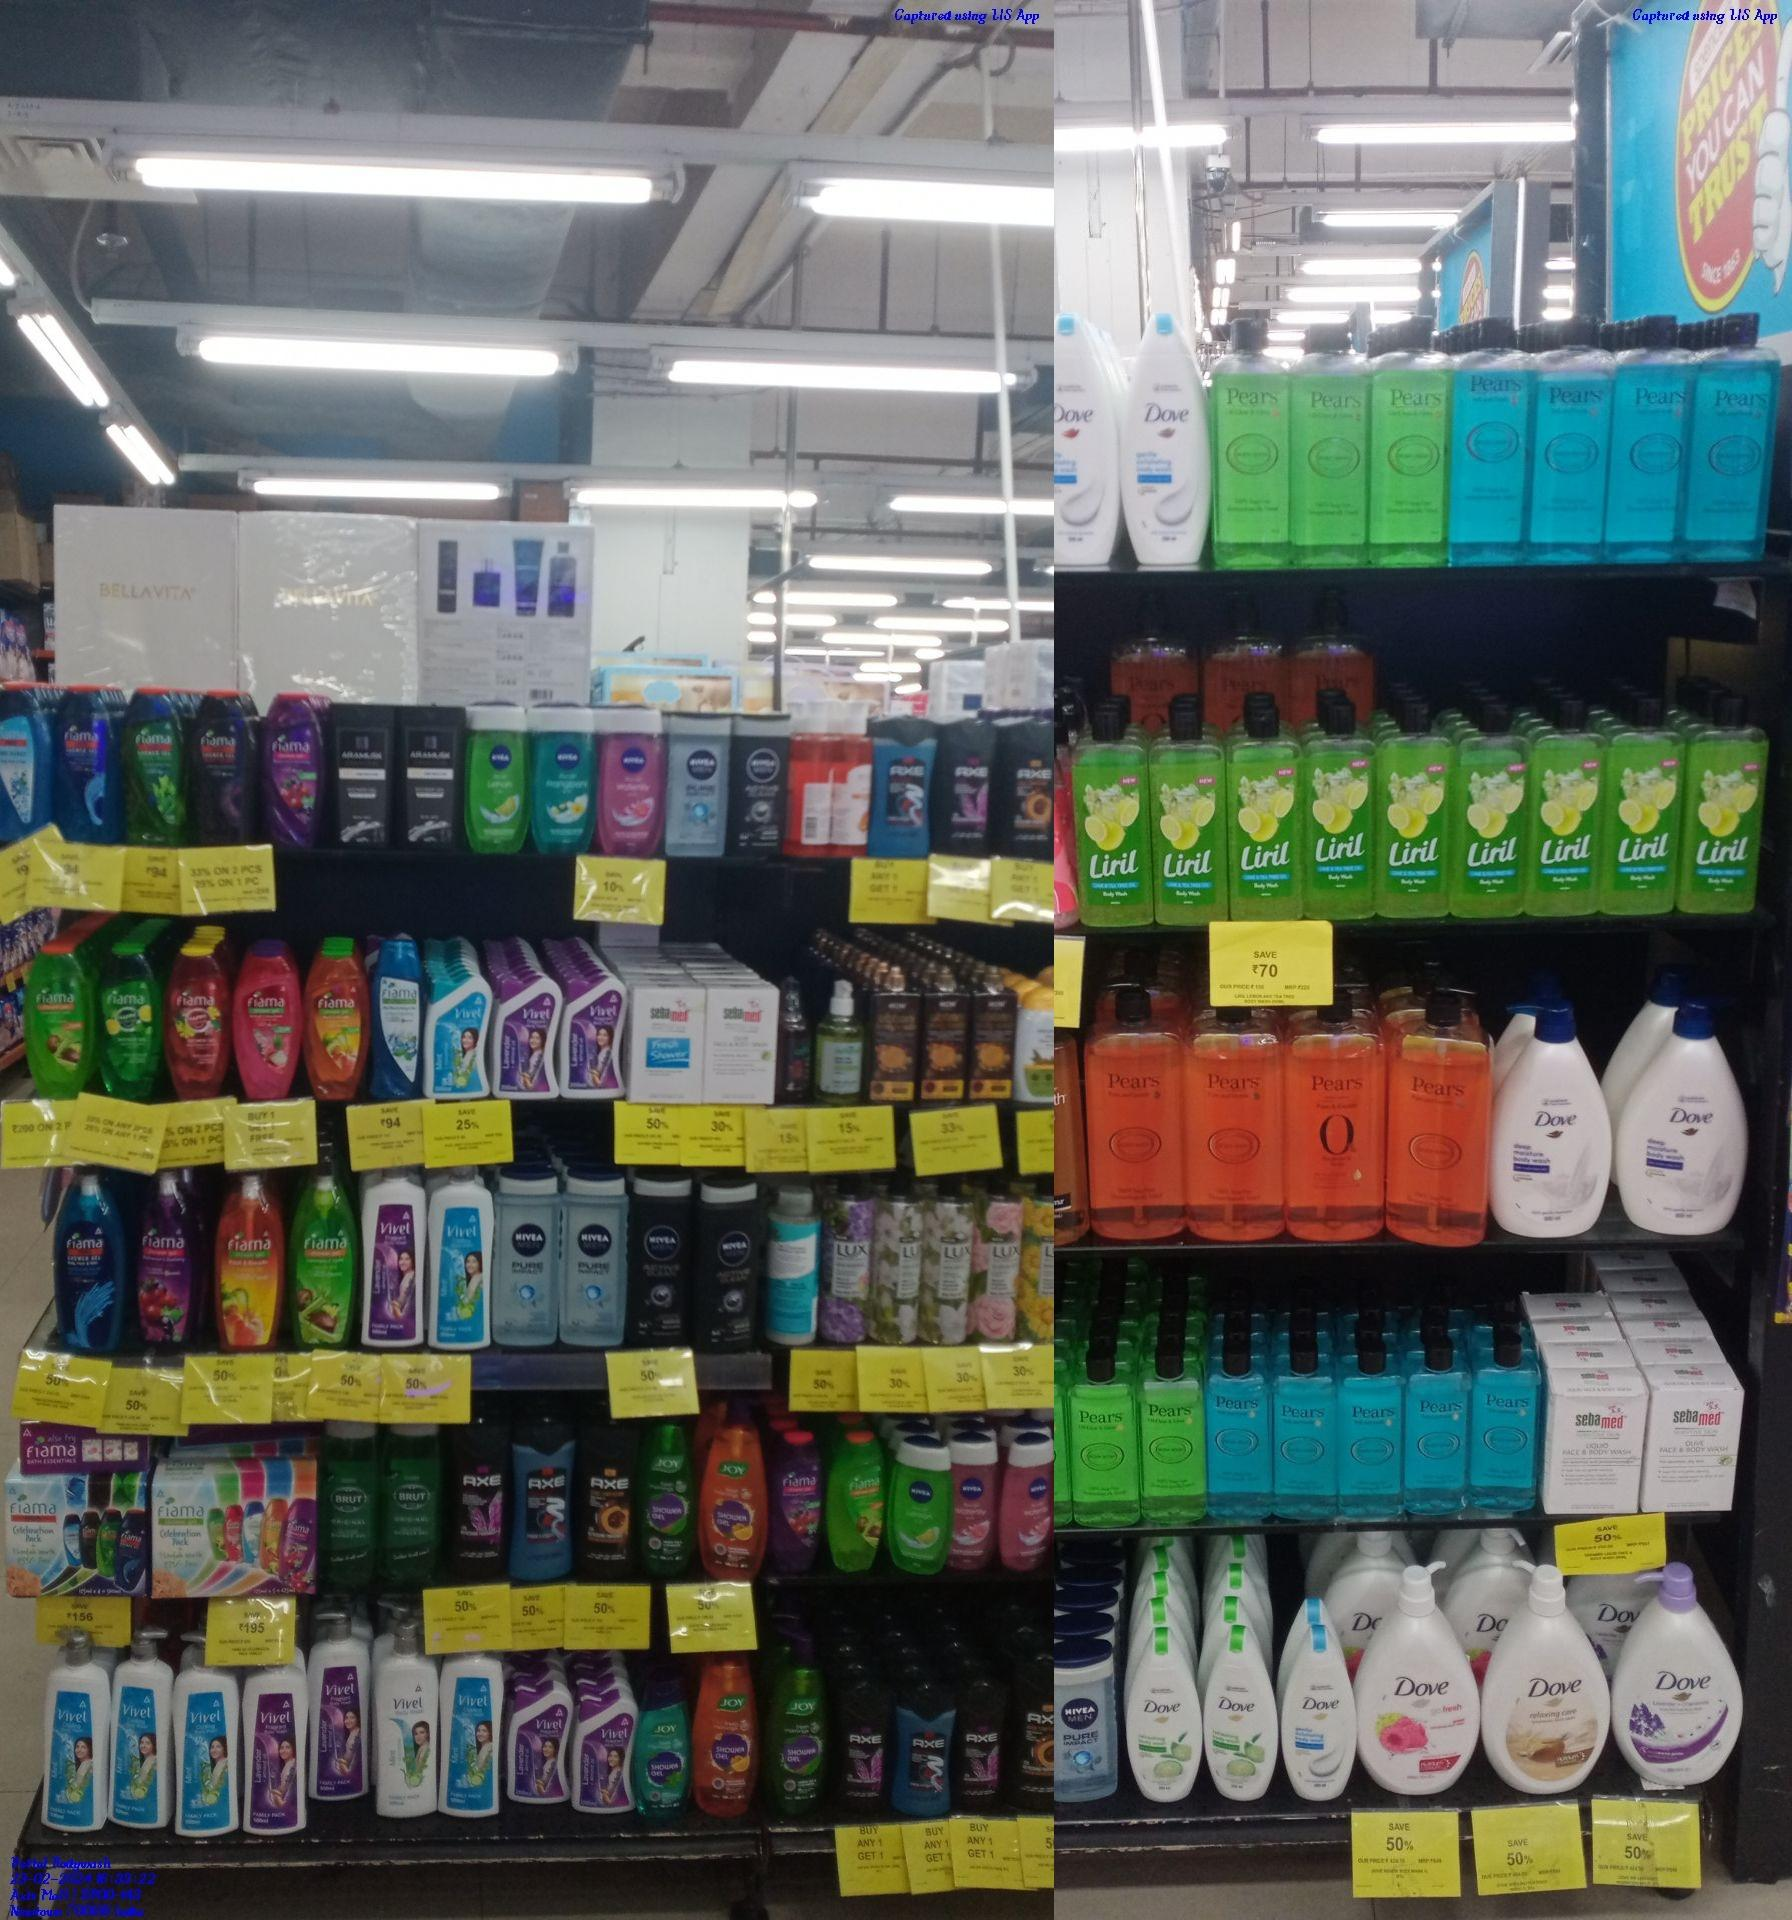Dove_Gentle_Exfoliating_Body_Wash_250ML: (1282, 1629, 1356, 1809)
Dove_Refreshing_Body_Wash_250ML: (1204, 1619, 1277, 1800), (1128, 1627, 1199, 1800)
Fiama_Shower_Gel_Lemongrass_and_Jojoba_250ML: (25, 943, 89, 1100), (825, 1437, 879, 1575)
Fiama_Shower_Gel_Patchouli_and_Macadamia_250ML: (234, 938, 300, 1105)
Fiama_Shower_Gel_Peach_and_Avocado_250ML: (305, 940, 364, 1100)
Joy_Shower_Gel_Mandarin_and_Lemongrass_250ML: (691, 1649, 755, 1816), (702, 1423, 765, 1578)
Liril_Lime_and_Tea_Tree_Oil_Body_Wash_250ML: (1603, 687, 1681, 916), (1378, 691, 1453, 923), (1683, 692, 1762, 913), (1531, 689, 1605, 920), (1453, 696, 1526, 925), (1073, 707, 1147, 928), (1304, 699, 1378, 918), (1150, 702, 1224, 921), (1226, 704, 1300, 920)
Nivea_Shower_Gel_Lemon_and_Oil_250ML: (888, 1438, 947, 1580)
Nivea_Shower_Gel_Waterlily_and_Oil_250ML: (1002, 1433, 1053, 1570), (947, 1435, 997, 1570)
Pears_Pure_Glycerin_and_Lemon_Flower_Extracts_Body_Wash_250ML: (1209, 308, 1292, 566), (1368, 315, 1450, 561), (1292, 315, 1368, 564), (1071, 1352, 1142, 1526), (1142, 1354, 1208, 1523)
Pears_Pure_Glycerin_and_Mint_Extracts_Body_Wash_250ML: (1684, 310, 1770, 564), (1521, 313, 1602, 559), (1603, 312, 1686, 552), (1448, 313, 1524, 561), (1403, 1341, 1470, 1516), (1209, 1346, 1275, 1519), (1472, 1332, 1536, 1509), (1339, 1344, 1403, 1517), (1275, 1344, 1337, 1521)
